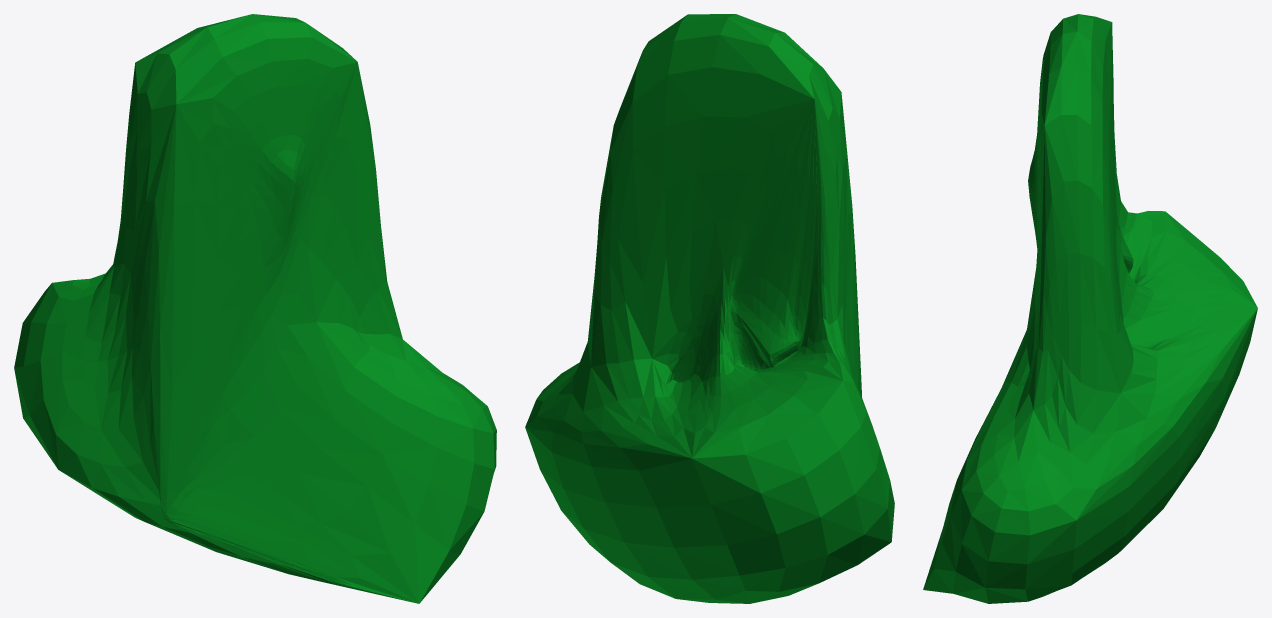
3 views of the same model, side by side, from view 1: azimuth 30°, elevation 25°; view 2: azimuth 150°, elevation 25°; view 3: azimuth 270°, elevation 25° (orthographic). The views are drawn at different scales.
Visible parts, largest first — view 1: 388_Cube.1578; view 2: 388_Cube.1578; view 3: 388_Cube.1578.
Boxes of the visible parts, x1,y1,x2,y2 form: 388_Cube.1578: [14, 14, 496, 603]; 388_Cube.1578: [525, 14, 894, 603]; 388_Cube.1578: [923, 14, 1257, 603].
Size of the model in its own units: 10.1 by 13.67 by 7.99.
